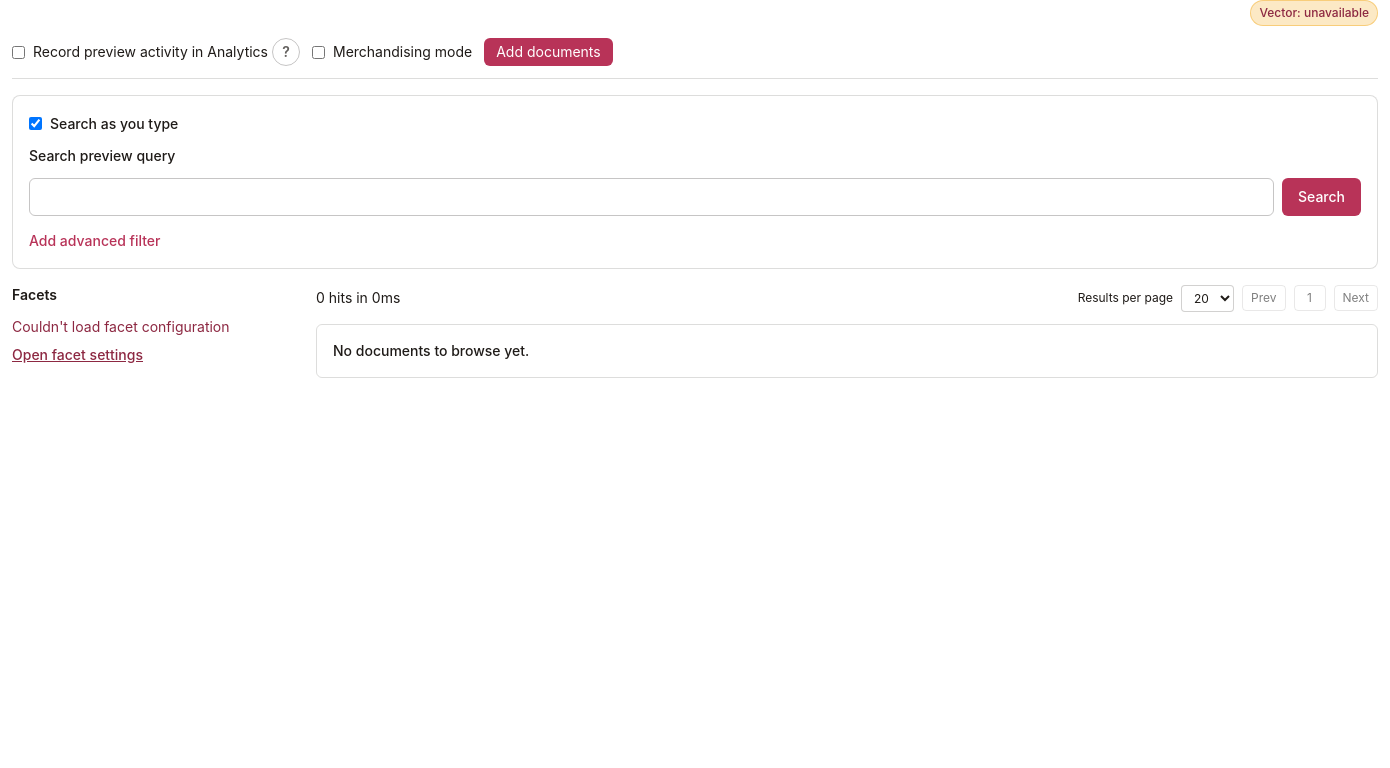
it: InstantSearch › keys search-as-you-type preference by the raw dashboard index name
The image size is (1390, 768).
In the search field labelled "Search preview query": (652, 196) [29,178,1274,216], type "Blue"
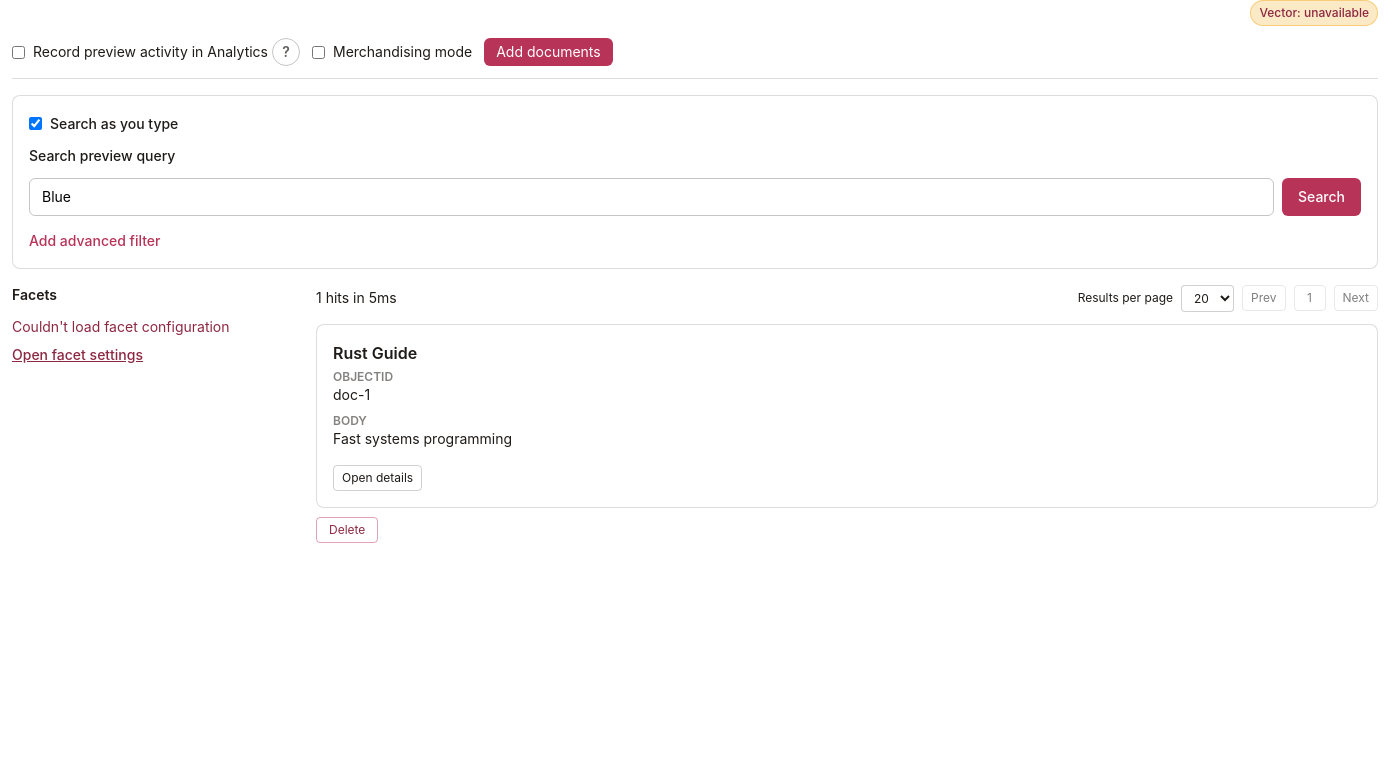
Expected: the checkbox labelled "Search as you type" is checked, [29,117,42,130]
Expected: the text with test id "document-card-title" reads "Rust Guide", [333,342,417,362]
